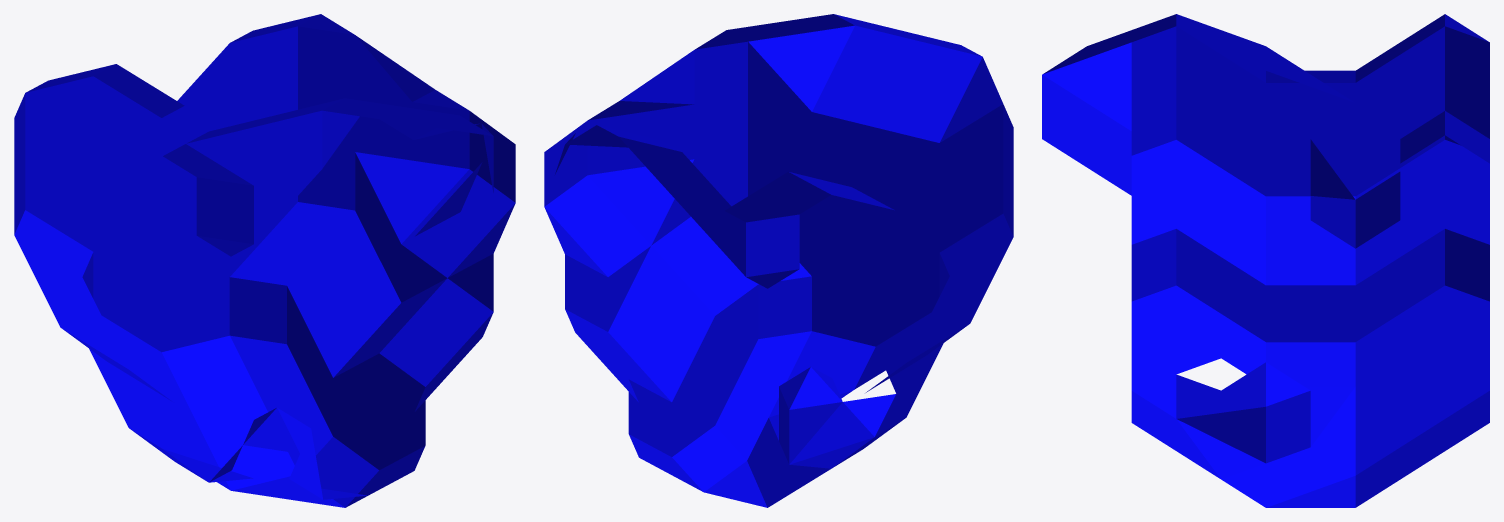
The model's file is marching_cubes_test.gltf.
3 views of the same model, side by side, from view 1: azimuth 30°, elevation 25°; view 2: azimuth 150°, elevation 25°; view 3: azimuth 270°, elevation 25° (orthographic). The views are drawn at different scales.
Visible parts, largest first — view 1: marching_cubes; view 2: marching_cubes; view 3: marching_cubes.
Part boxes in pixels (bbox=[...]): marching_cubes: bbox=[14, 14, 515, 507]; marching_cubes: bbox=[544, 14, 1013, 507]; marching_cubes: bbox=[1042, 14, 1489, 507].
Size of the model in its own units: 0.9143 by 0.875 by 0.8939.
